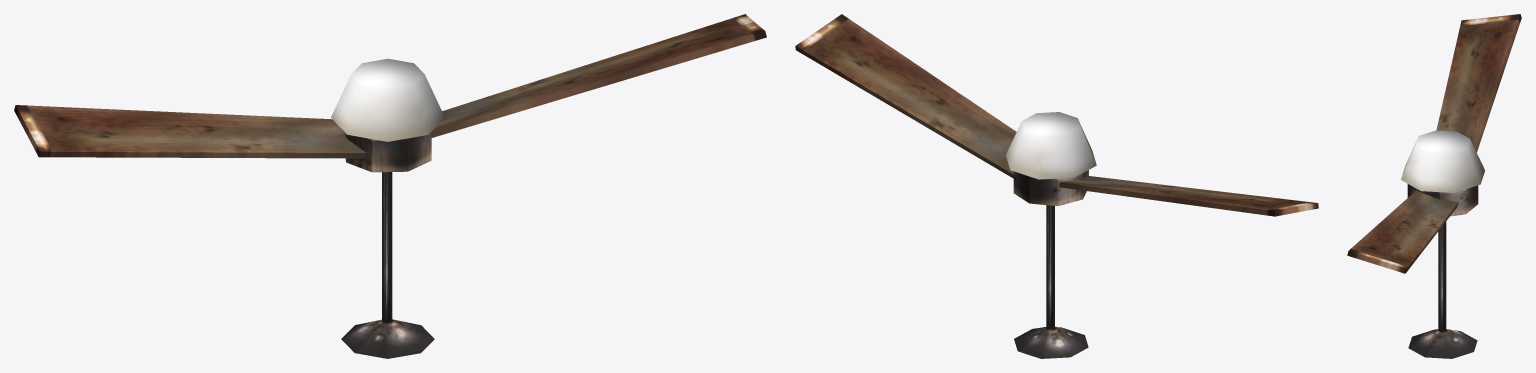
Rendered from fan_broken4.fbx.
3 renders of one model, left to right at view 1: azimuth 30°, elevation 25°; view 2: azimuth 150°, elevation 25°; view 3: azimuth 270°, elevation 25°, orthographic. The views are drawn at different scales.
Visible parts, largest first — view 1: mesh_0, mesh_1; view 2: mesh_0, mesh_1; view 3: mesh_0, mesh_1.
Part boxes in pixels (bbox=[...]): mesh_0: bbox=[14, 14, 766, 172]; mesh_1: bbox=[331, 58, 444, 358]; mesh_0: bbox=[795, 14, 1318, 216]; mesh_1: bbox=[1006, 112, 1096, 358]; mesh_0: bbox=[1347, 14, 1521, 273]; mesh_1: bbox=[1401, 130, 1484, 358].
Size of the model in its own units: 167 by 65.65 by 49.23.
Materials: 1 (1 with a texture image).
